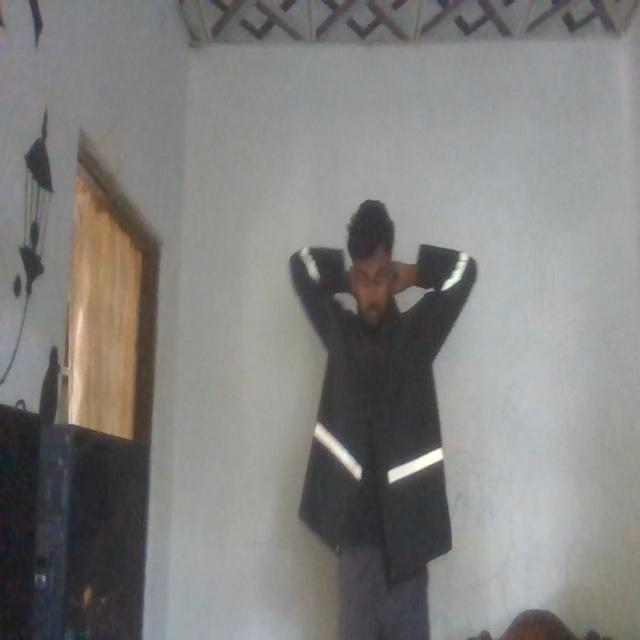Jacket_Wearer: (287, 235, 471, 553)
Person: (286, 186, 472, 640)
